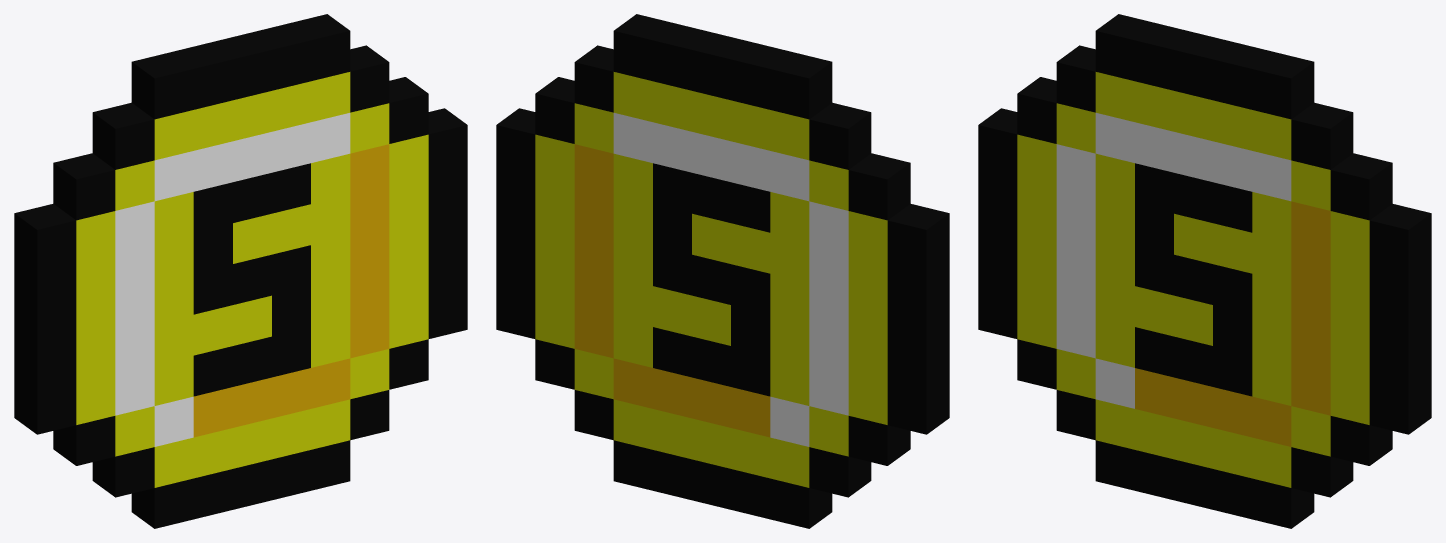
The model's file is Coin5.fbx.
The picture shows the model from 3 angles, left to right: view 1: azimuth 30°, elevation 25°; view 2: azimuth 150°, elevation 25°; view 3: azimuth 330°, elevation 25°; orthographic projection.
Parts seen in each view (by area): view 1: Plane; view 2: Plane; view 3: Plane.
Boxes of the visible parts, left/top/right/bottom form: Plane: left=14, top=14, right=467, bottom=528; Plane: left=496, top=14, right=949, bottom=528; Plane: left=978, top=14, right=1431, bottom=528.
Size of the model in its own units: 220 by 220 by 20.31.
